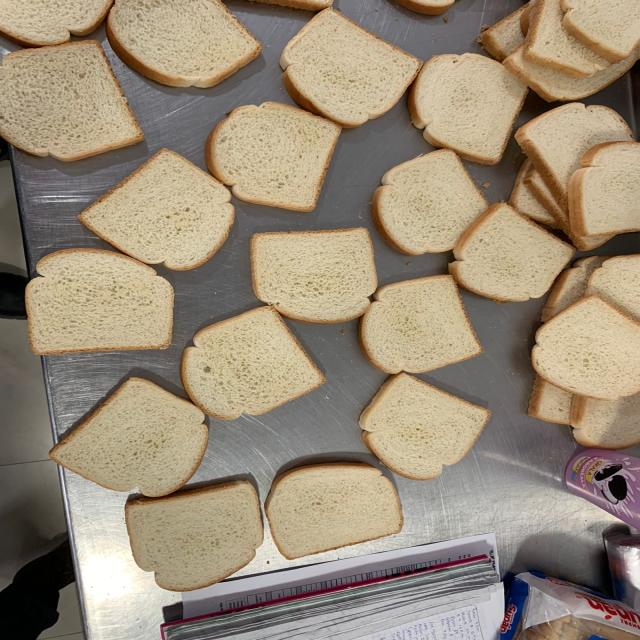sliced_bread: (49, 376, 209, 498), (80, 149, 234, 269), (0, 39, 144, 162), (279, 8, 423, 129), (182, 306, 329, 420), (24, 248, 174, 356), (205, 101, 342, 213), (126, 481, 264, 591), (359, 373, 491, 480), (408, 53, 529, 165), (266, 462, 402, 559), (372, 149, 491, 255), (450, 202, 576, 302), (358, 274, 483, 374), (251, 227, 378, 324), (532, 293, 640, 401)
